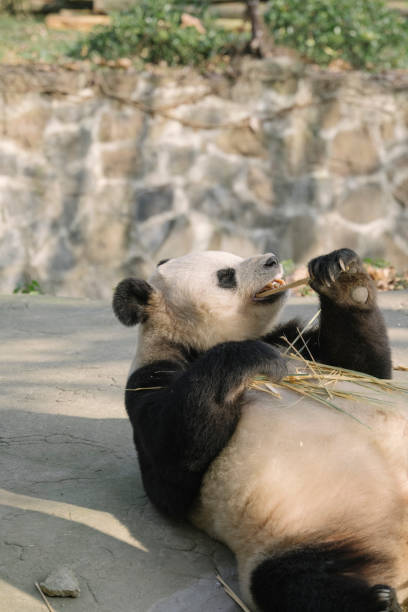panda: (90, 215, 326, 381)
